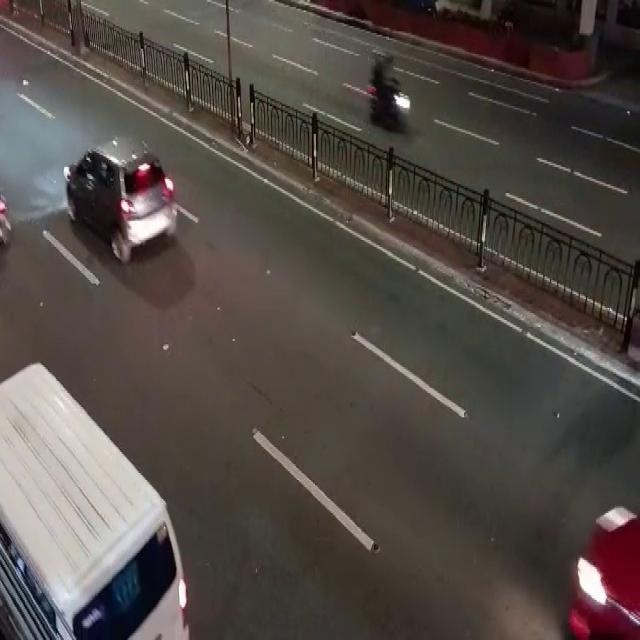car: (0, 367, 186, 640), (62, 130, 183, 267)
motorcycle: (365, 48, 409, 137)
